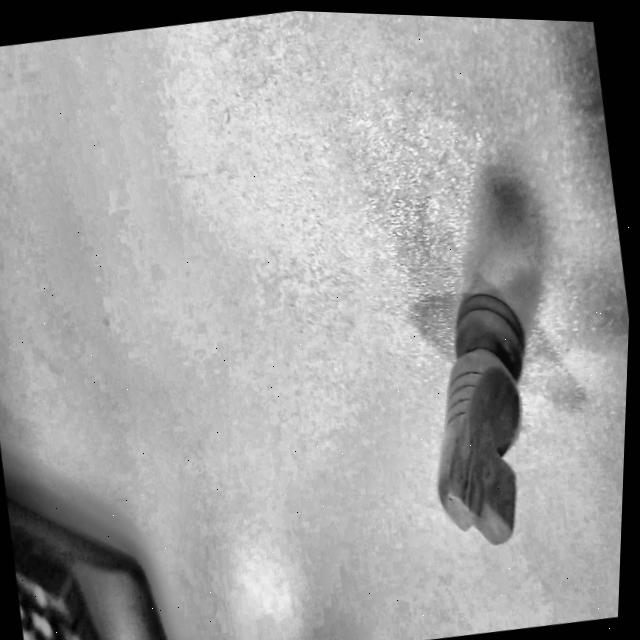white-knight: (437, 294, 525, 545)
